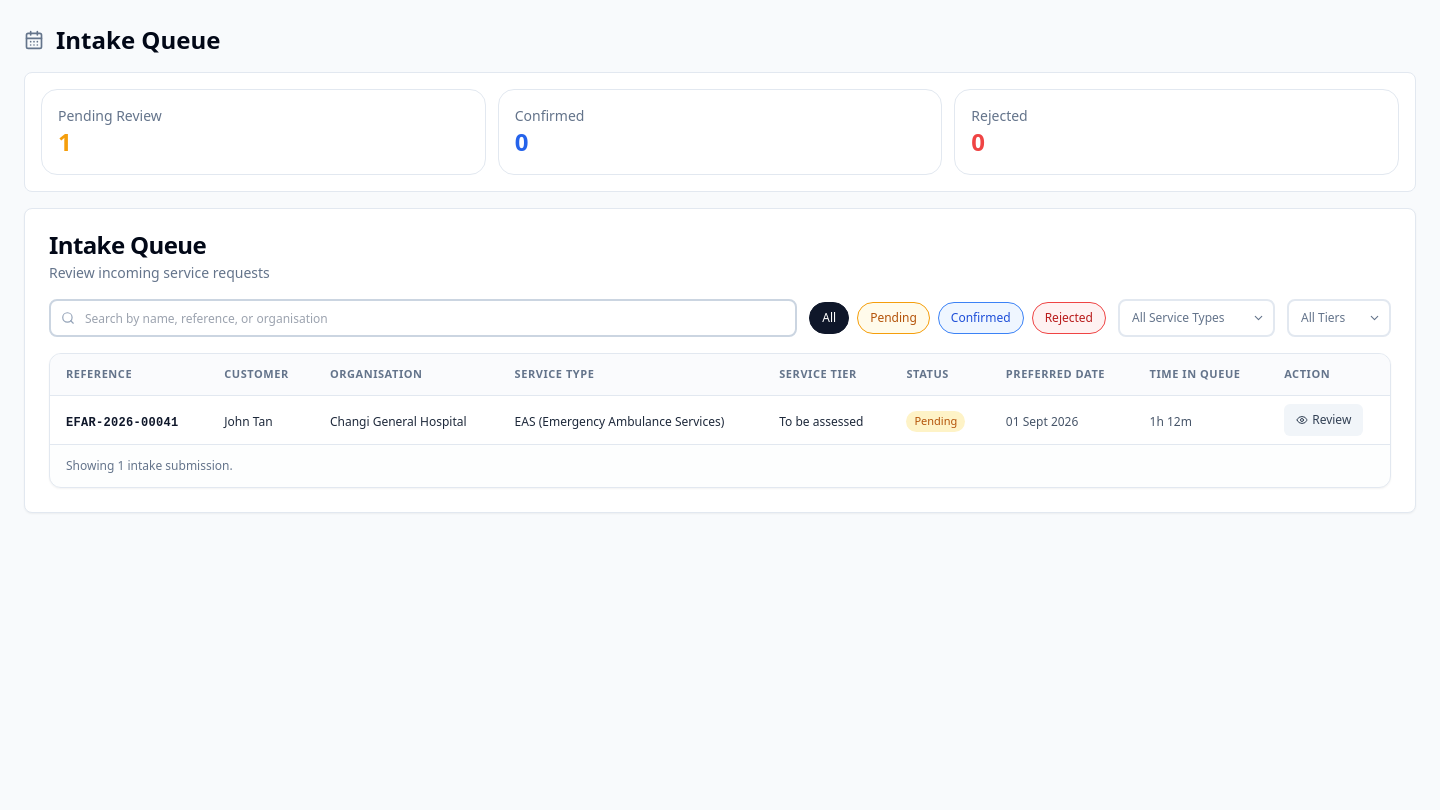
Scenario: IntakeQueuePage - reject flow › a failed reject request surfaces the backend error message in the toast
Expected: the text "EFAR-2026-00041" is shown, [66,416,178,430]
Click the button "Review" at (1324, 420), box [1284,404,1363,436]
(page scrolled)
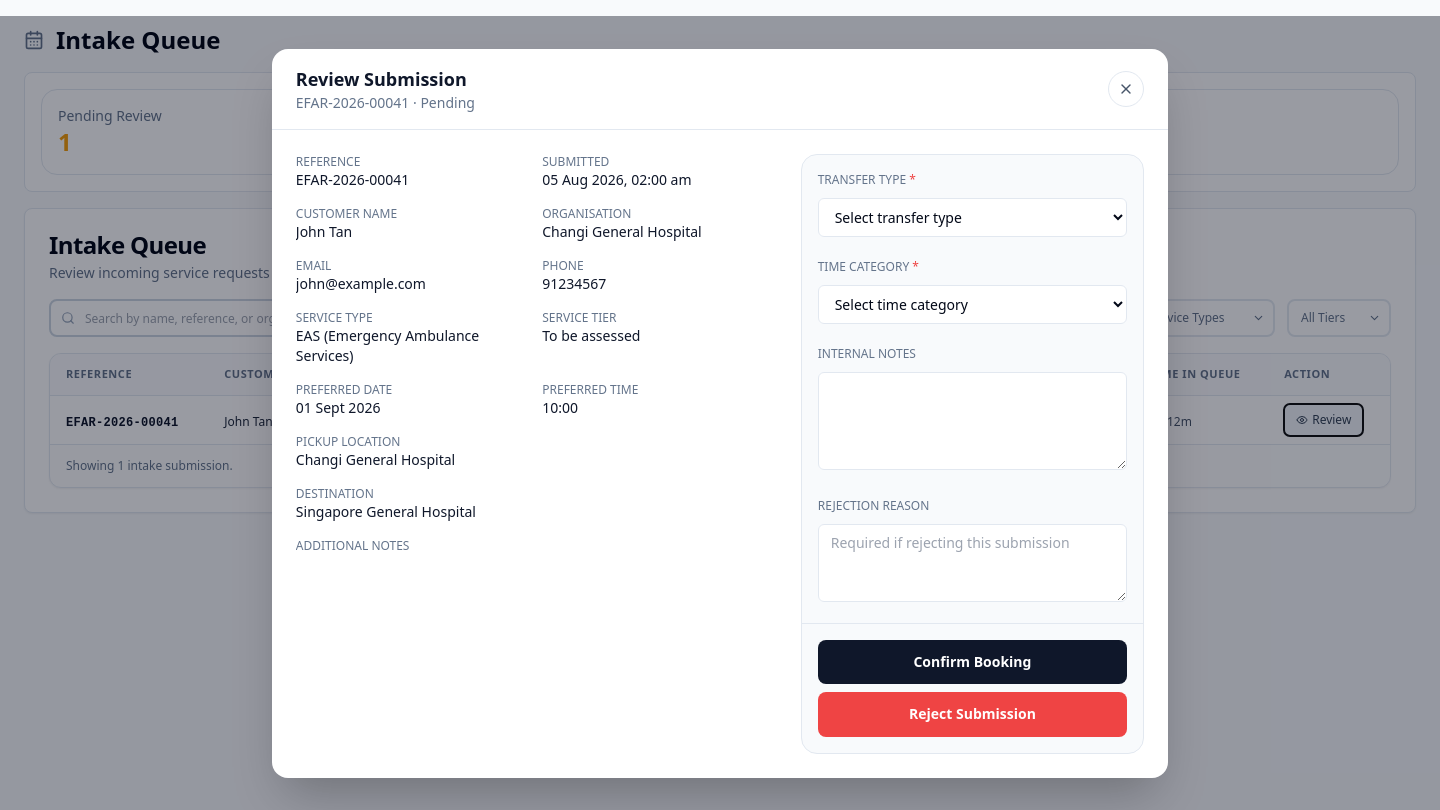
Type "Outside service area" into the text box with placeholder "Required if rejecting this submission" at (972, 562), box [818,524,1127,602]
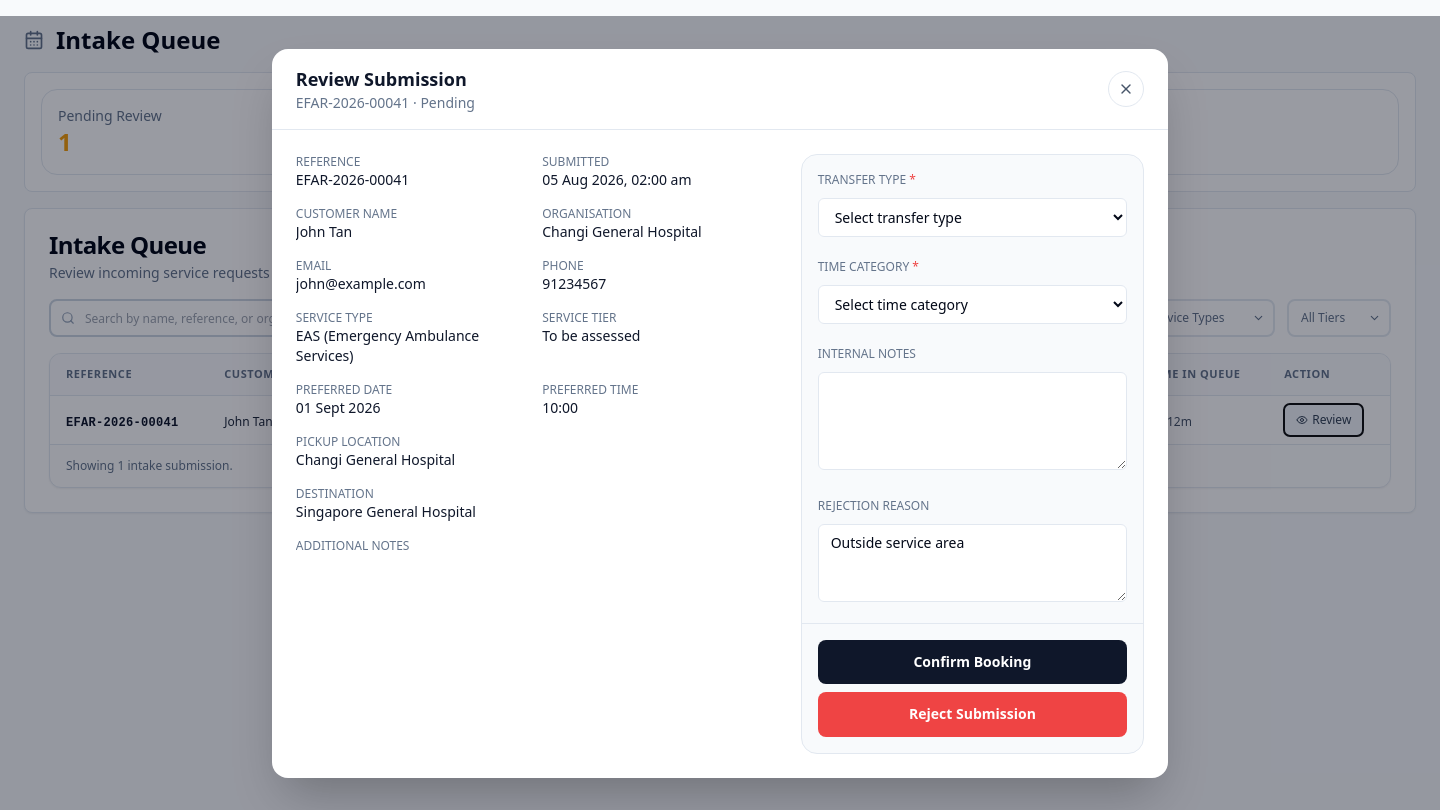
Click the button "Reject Submission" at (972, 714), box [818,692,1127,736]
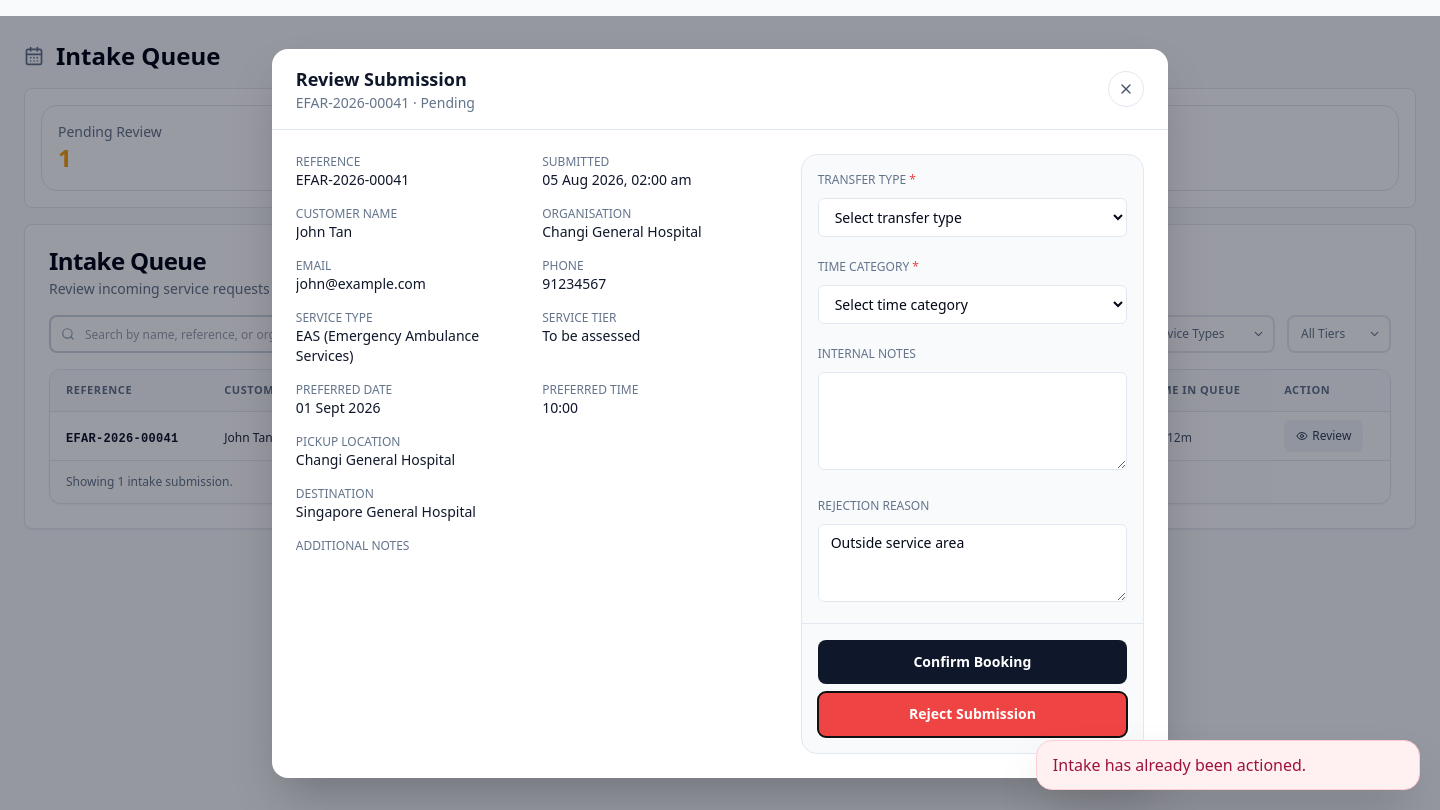
Expected: the text "Intake has already been actioned." is shown, [1036,740,1420,790]
